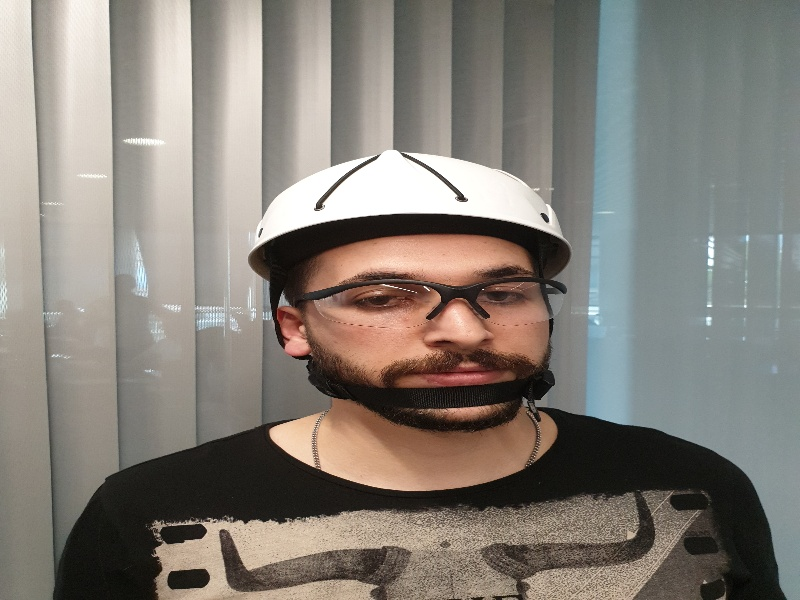Baret: (248, 150, 569, 246)
Gozluk: (293, 276, 572, 326)
